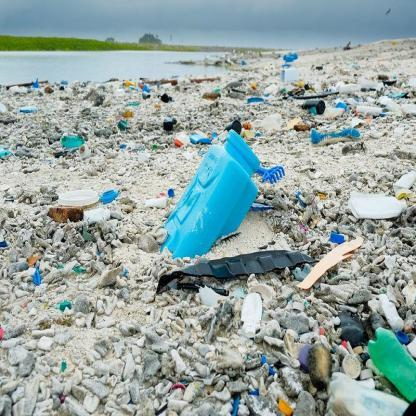Plastic: (160, 124, 265, 264), (366, 323, 416, 406)
